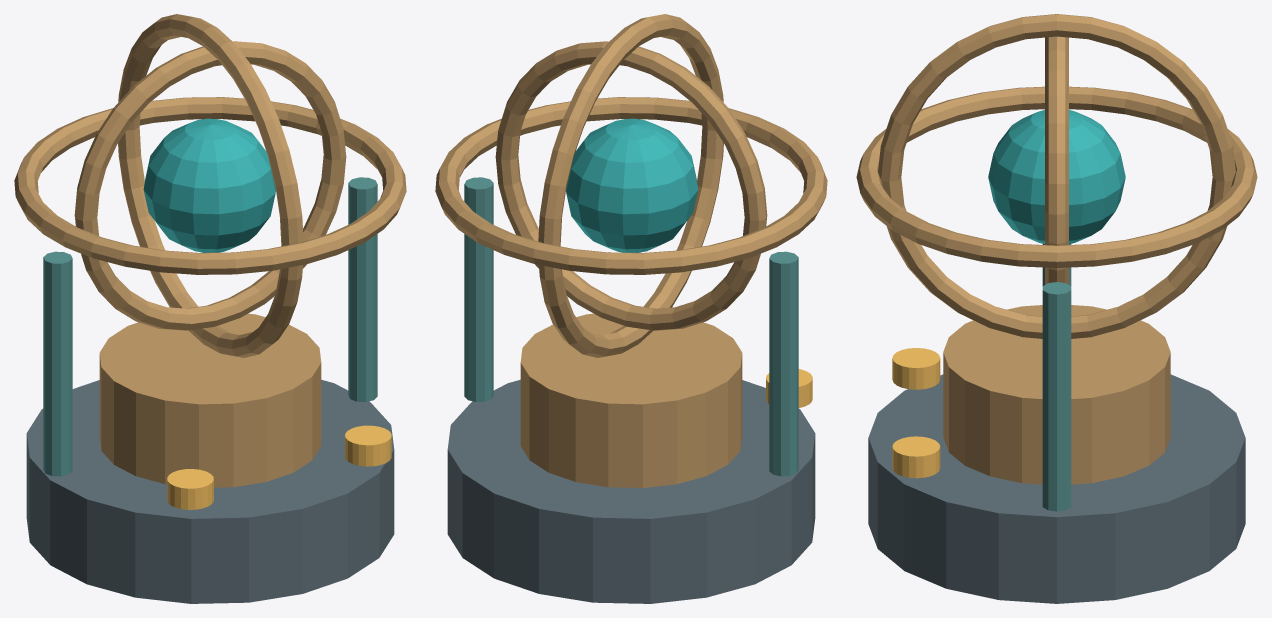
The model's file is LiftResonator.glb.
3 views of the same model, side by side, from view 1: azimuth 30°, elevation 25°; view 2: azimuth 150°, elevation 25°; view 3: azimuth 270°, elevation 25° (orthographic). The views are drawn at different scales.
Parts seen in each view (by area): view 1: LiftResonator; view 2: LiftResonator; view 3: LiftResonator.
Part boxes in pixels (x1,y1,x2,y2): LiftResonator: (14, 14, 406, 603); LiftResonator: (435, 14, 827, 603); LiftResonator: (856, 14, 1257, 603).
Bounding box in the file's own units: 1.34 × 1.88 × 1.34.
